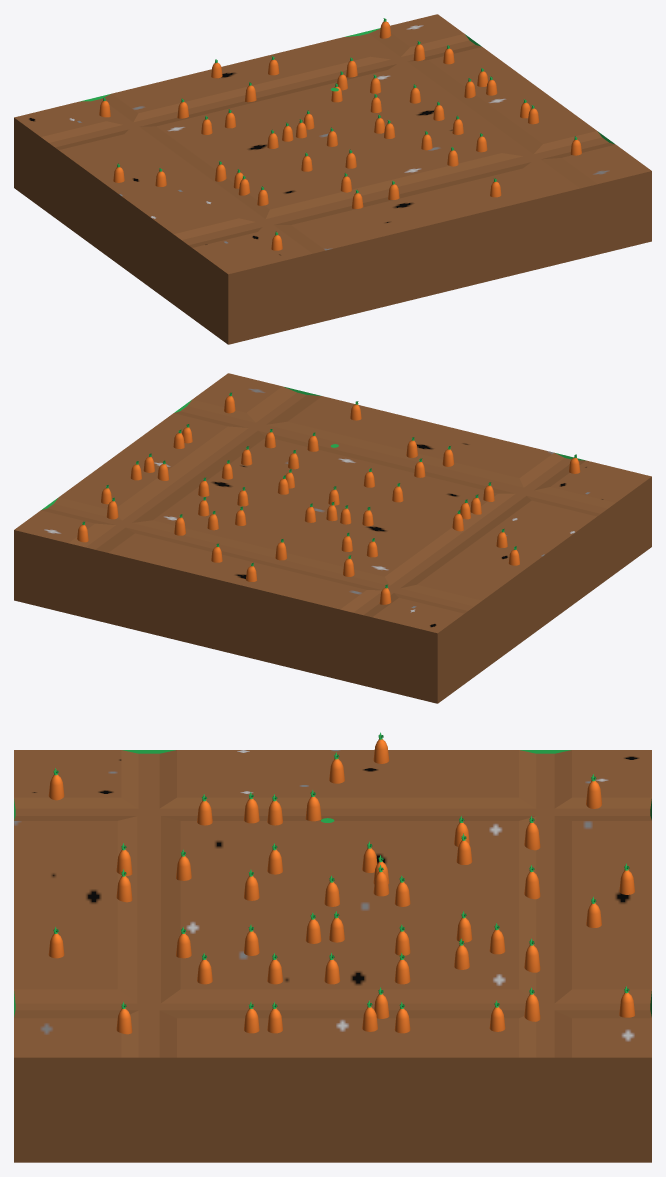
Rendered from Stage3Carrots.fbx.
The picture shows the model from 3 angles, top to bottom: view 1: azimuth 30°, elevation 25°; view 2: azimuth 150°, elevation 25°; view 3: azimuth 270°, elevation 25°; orthographic projection. The views are drawn at different scales.
Parts seen in each view (by area): view 1: Cube, Cylinder; view 2: Cube, Cylinder; view 3: Cube, Cylinder.
Boxes of the visible parts, bbox=[...] form: Cube: bbox=[14, 14, 651, 344]; Cylinder: bbox=[99, 18, 581, 250]; Cube: bbox=[14, 373, 651, 703]; Cylinder: bbox=[77, 392, 580, 604]; Cube: bbox=[14, 750, 651, 1162]; Cylinder: bbox=[48, 732, 635, 1034].
Size of the model in its own units: 389 by 111 by 341.
